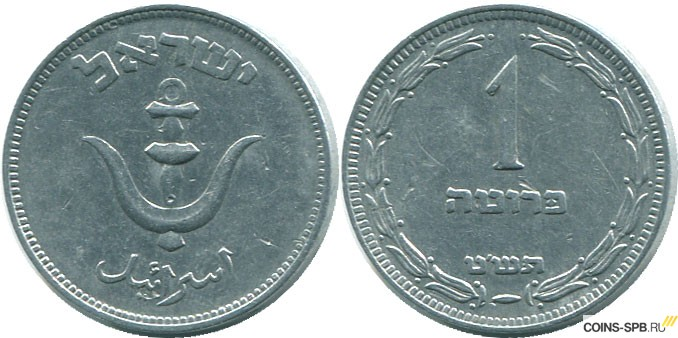coin: (342, 3, 676, 338), (3, 4, 331, 338)
